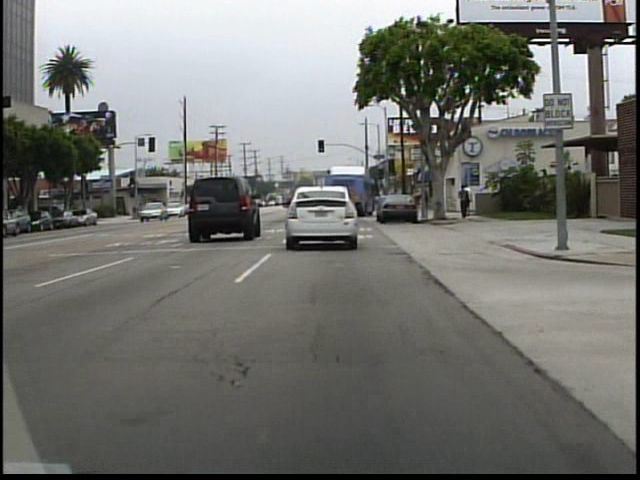person: (456, 185, 471, 223), (464, 182, 475, 218)
